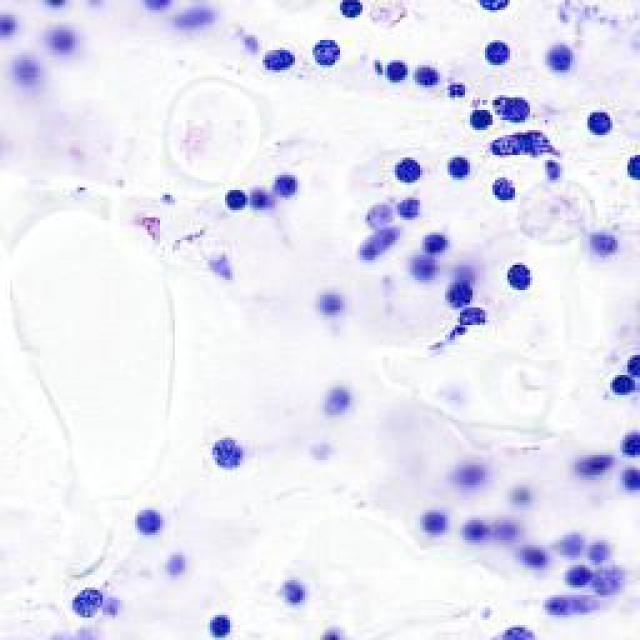cell: (124, 502, 172, 544), (541, 588, 605, 619), (491, 136, 569, 160), (205, 429, 245, 474), (580, 228, 625, 268), (62, 582, 106, 620), (496, 90, 540, 123), (446, 309, 506, 333), (541, 42, 583, 75), (584, 107, 620, 145), (249, 47, 298, 74), (471, 39, 519, 66), (438, 278, 483, 306), (358, 227, 400, 255), (175, 9, 224, 33), (438, 148, 472, 182), (500, 264, 538, 294), (269, 168, 309, 196), (387, 152, 425, 180), (602, 372, 640, 400), (377, 54, 411, 84), (485, 177, 520, 206), (417, 506, 450, 536), (460, 514, 490, 546), (398, 190, 430, 220), (416, 59, 444, 93), (10, 55, 40, 86), (279, 580, 308, 612), (554, 529, 586, 558), (575, 447, 609, 474), (45, 26, 84, 49), (595, 563, 626, 591), (199, 616, 234, 640), (313, 34, 341, 64), (320, 386, 356, 409), (488, 625, 541, 640), (221, 193, 250, 220), (593, 534, 619, 562), (450, 463, 488, 482), (539, 157, 569, 181), (153, 552, 192, 570), (522, 541, 548, 568), (1, 7, 20, 43), (424, 226, 456, 247), (406, 257, 438, 278), (336, 1, 371, 20), (466, 106, 493, 130), (317, 294, 345, 317), (620, 465, 640, 497), (556, 568, 590, 586), (620, 425, 640, 453), (473, 2, 513, 16), (624, 344, 640, 378), (622, 155, 640, 183), (329, 622, 351, 640), (448, 81, 469, 98), (512, 485, 530, 504), (494, 518, 512, 536)
